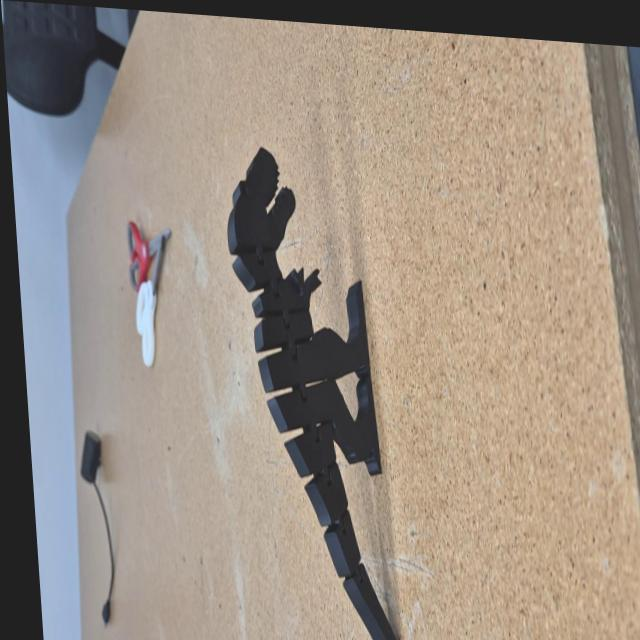dino: (219, 141, 407, 640)
